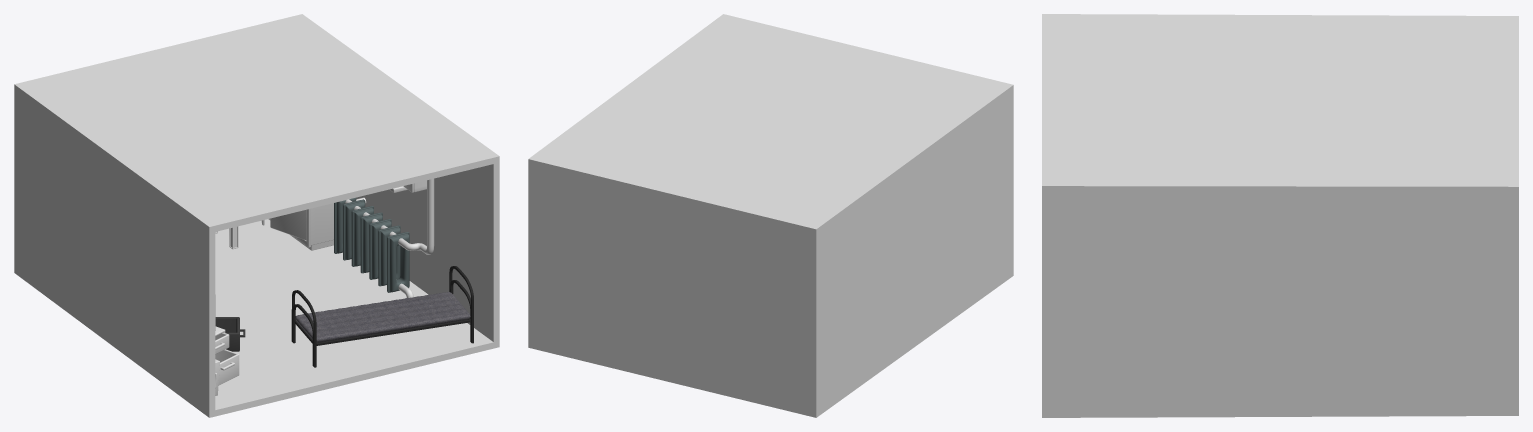
Rendered from Headquarters_Room.fbx.
3 renders of one model, left to right at view 1: azimuth 30°, elevation 25°; view 2: azimuth 150°, elevation 25°; view 3: azimuth 270°, elevation 25°, orthographic. The views are drawn at different scales.
Parts seen in each view (by area): view 1: Room, Bed, Bed .001, Closet .001, Battery, Pipe.001, Battery .007, Closet .002, Battery .009, Battery .008, Battery .010, Cells .004 (+3 smaller); view 2: Room; view 3: Room.
Boxes of the visible parts, bbox=[...] form: Room: bbox=[14, 14, 499, 417]; Bed: bbox=[295, 292, 470, 342]; Bed .001: bbox=[291, 266, 473, 367]; Closet .001: bbox=[268, 203, 333, 250]; Battery: bbox=[387, 232, 409, 292]; Pipe.001: bbox=[345, 178, 434, 254]; Battery .007: bbox=[378, 225, 400, 286]; Closet .002: bbox=[270, 210, 306, 240]; Battery .009: bbox=[360, 212, 382, 273]; Battery .008: bbox=[369, 219, 391, 279]; Battery .010: bbox=[351, 206, 373, 266]; Cells .004: bbox=[215, 349, 239, 385]; Room: bbox=[528, 14, 1013, 417]; Room: bbox=[1042, 14, 1518, 417].
Bounding box in the file's own units: 1022 × 642 × 1197.
